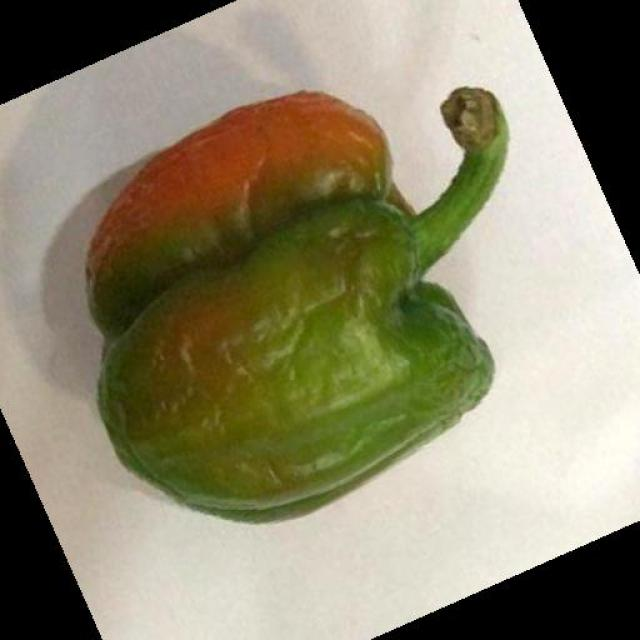Stale_Capsicum: (48, 72, 518, 518)
